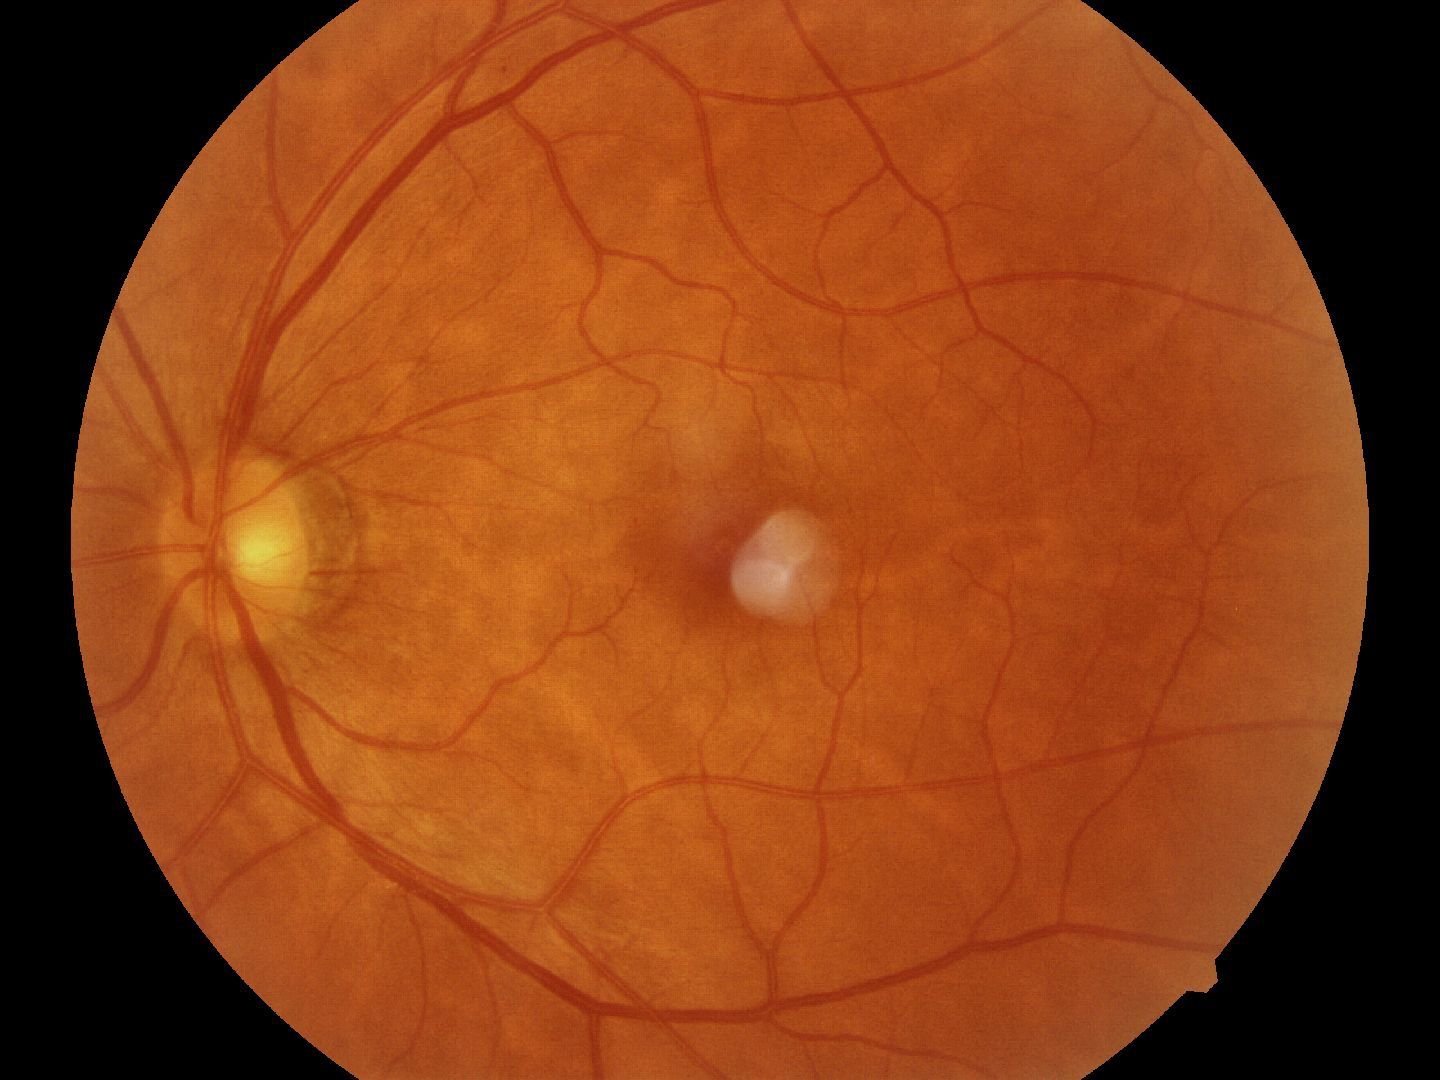Hemorrhages: (634, 459, 859, 665)
Optic-Disc: (156, 445, 349, 636)
Venules: (294, 702, 627, 1021), (232, 121, 375, 395)
